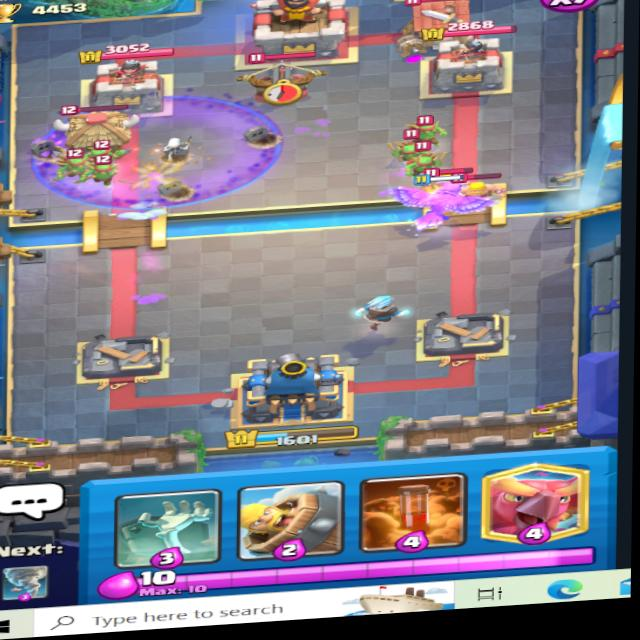Barbarian: (457, 169, 512, 199)
Barbarianhut: (400, 0, 480, 50)
Goblinhut: (55, 99, 140, 156)
Speargoblin: (396, 112, 448, 144), (85, 153, 117, 186), (50, 153, 87, 179), (405, 152, 440, 179), (391, 141, 426, 161)
Xbow: (227, 41, 325, 110)
